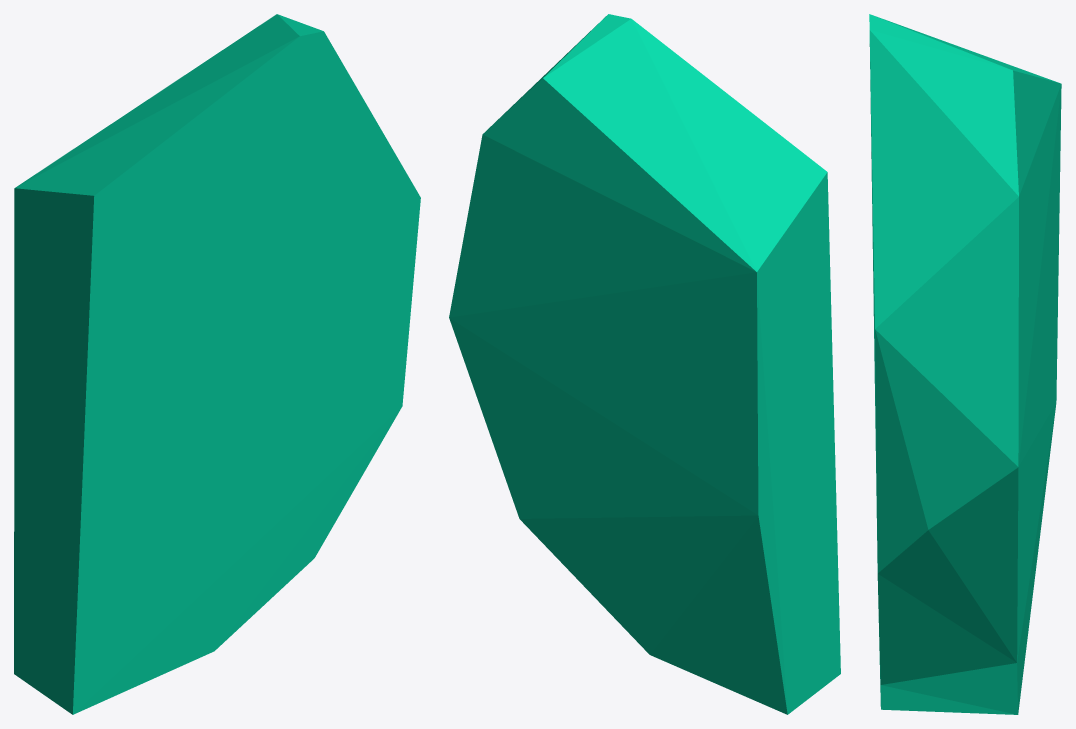
Rendered from hip-pitch-mirror_convex_piece_002.obj.
3 renders of one model, left to right at view 1: azimuth 30°, elevation 25°; view 2: azimuth 150°, elevation 25°; view 3: azimuth 270°, elevation 25°, orthographic. The views are drawn at different scales.
Size of the model in its own units: 0.0679 by 0.1146 by 0.0255.
